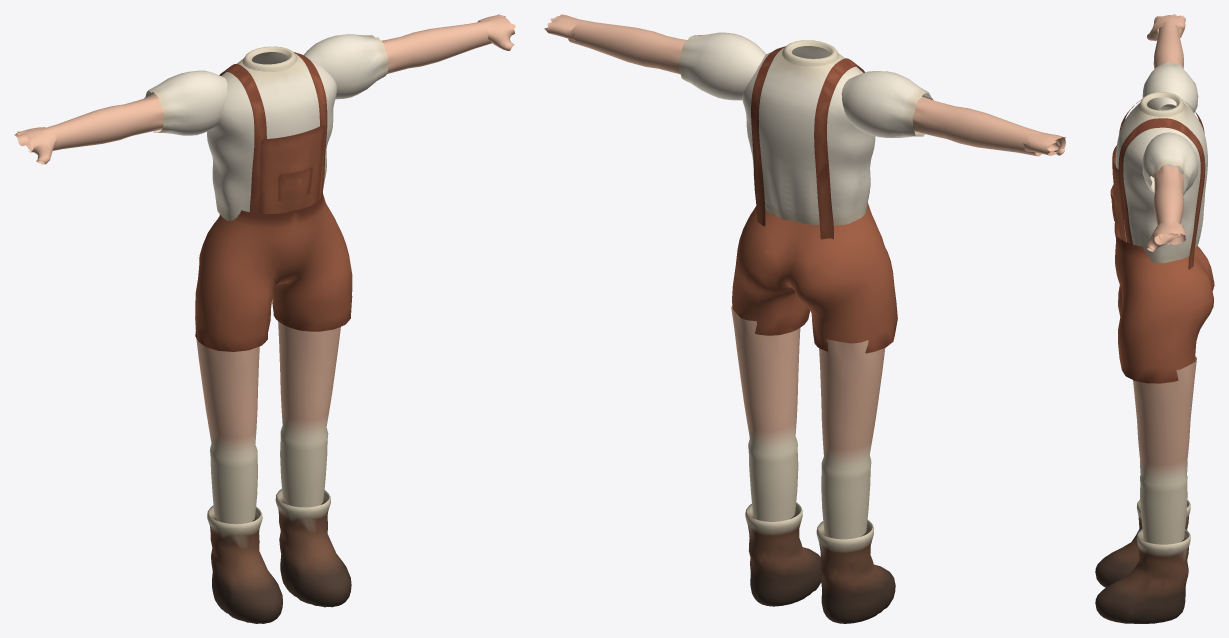
The model's file is lingya-attire.glb.
3 views of the same model, side by side, from view 1: azimuth 30°, elevation 25°; view 2: azimuth 150°, elevation 25°; view 3: azimuth 270°, elevation 25° (orthographic). The views are drawn at different scales.
Visible parts, largest first — view 1: Superhero_Female, Female_Ranger_Body, Female_Ranger_Arms_1, Female_Ranger_Feet; view 2: Superhero_Female, Female_Ranger_Body, Female_Ranger_Arms_1, Female_Ranger_Feet; view 3: Superhero_Female, Female_Ranger_Body, Female_Ranger_Arms_1, Female_Ranger_Feet.
Part boxes in pixels (box(x1,y1,x2,y2)): Superhero_Female: box(195, 192, 352, 524); Female_Ranger_Body: box(207, 46, 337, 220); Female_Ranger_Arms_1: box(14, 14, 515, 164); Female_Ranger_Feet: box(207, 489, 351, 623); Superhero_Female: box(731, 203, 897, 539); Female_Ranger_Body: box(742, 40, 875, 239); Female_Ranger_Arms_1: box(544, 14, 1065, 156); Female_Ranger_Feet: box(745, 502, 895, 623); Superhero_Female: box(1114, 222, 1214, 544); Female_Ranger_Body: box(1110, 92, 1207, 269); Female_Ranger_Arms_1: box(1142, 14, 1198, 251); Female_Ranger_Feet: box(1095, 500, 1190, 623).
Size of the model in its own units: 1.42 by 1.5 by 0.3245.
